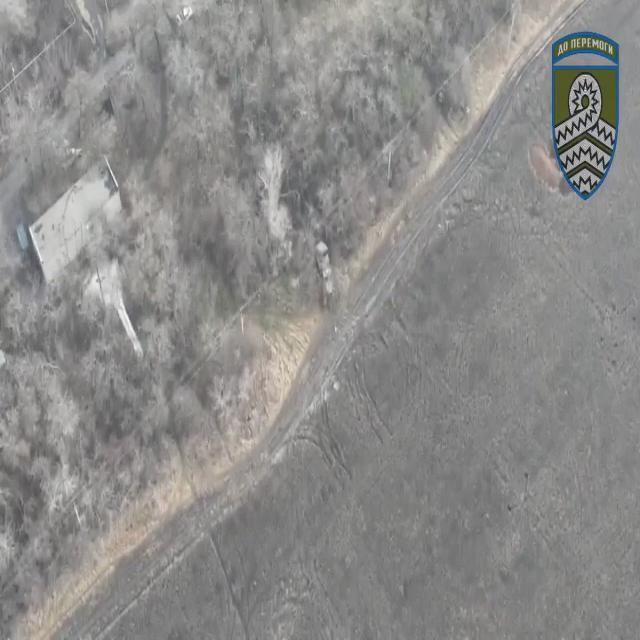cars: (315, 240, 337, 302), (175, 4, 193, 27)
